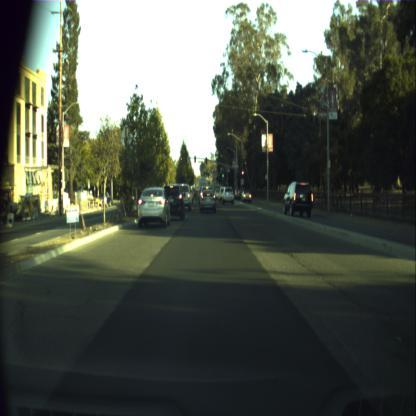Green: (221, 168, 224, 177)
Red: (241, 168, 244, 178)
Yellow: (180, 155, 182, 162)
off: (194, 156, 196, 161), (206, 156, 206, 163)
